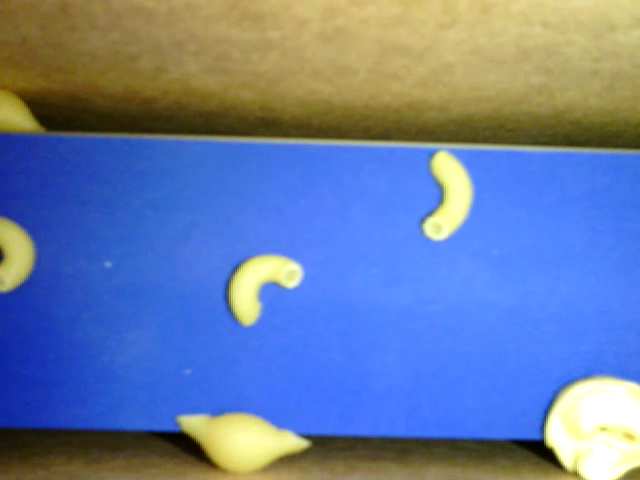penne: (215, 252, 315, 329), (425, 148, 473, 249), (1, 215, 45, 294)
shell: (179, 413, 322, 474), (2, 87, 53, 135)
tortellini: (542, 378, 637, 479)
